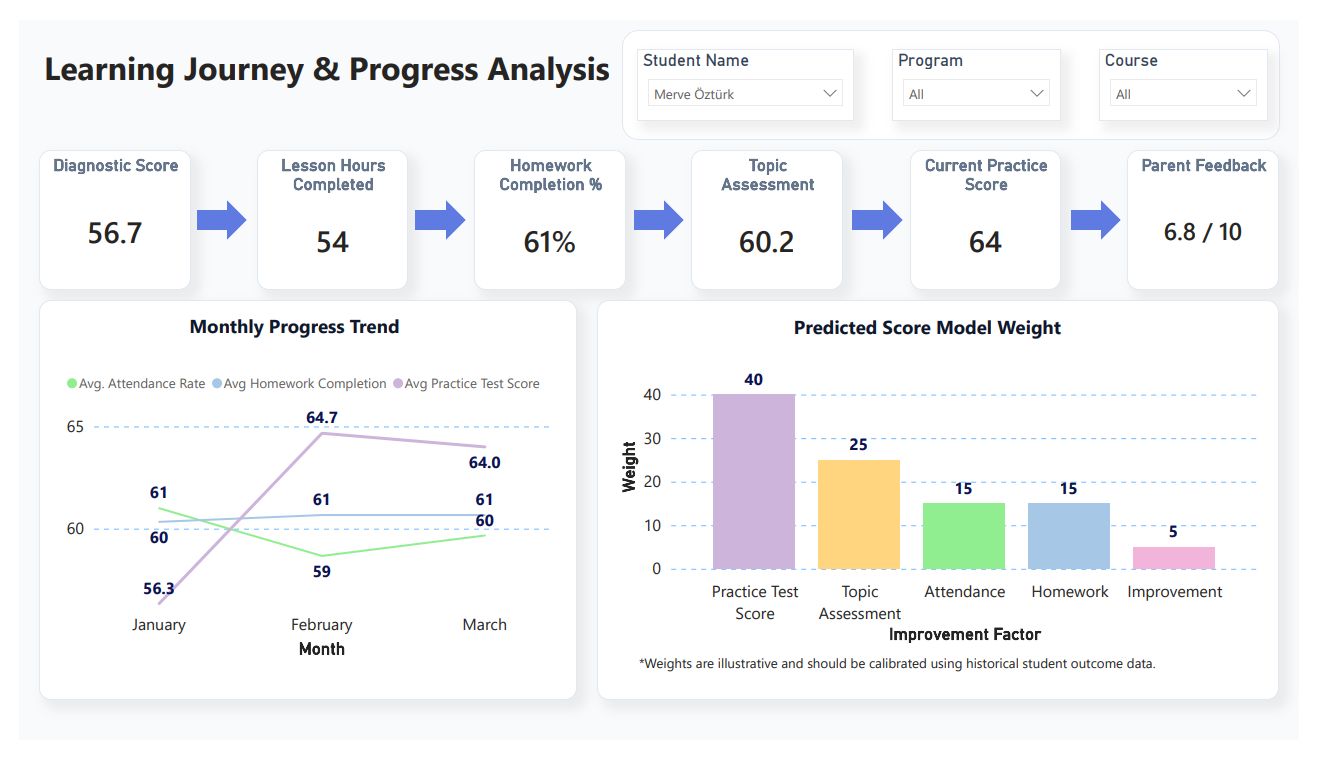

The dashboard page shown, as its layout file describes it:
{"tool":"powerbi","page":{"name":"Learning Journey & Progress Analysis","canvas":[1280,720],"ordinal":1},"visuals":[{"type":"shape","box":[602.5,10,657.5,110],"z":0,"group":"g1"},{"type":"textbox","box":[20,20,595,96.2],"z":0},{"type":"cardVisual","title":"Parent Feedback","fields":{"Data":["Dax.Parent Feedback Display"]},"box":[1108.3,130,151.7,140],"z":0,"group":"g2"},{"type":"group","id":"g1","title":"Group 1","box":[602.5,10,657.5,110],"z":1000},{"type":"slicer","title":"Student Name","fields":{"Values":["HubPrep_Data.Student_Name"]},"box":[617.6,29.5,216.6,71],"z":1000,"group":"g1"},{"type":"cardVisual","title":"Diagnostic Score","fields":{"Data":["Dax.Diagnostic Score Avg"]},"box":[20,130,151.7,140],"z":1000,"group":"g2"},{"type":"slicer","title":"Program","fields":{"Values":["HubPrep_Data.Program"]},"box":[872.1,29.5,169.1,71],"z":2000,"group":"g1"},{"type":"group","id":"g2","title":"Group 3","box":[20,130,1240,140],"z":2000},{"type":"cardVisual","title":"Current Practice Score","fields":{"Data":["Dax.Current Practice Skore"]},"box":[890.6,130,151.7,140],"z":2000,"group":"g2"},{"type":"slicer","title":"Course","fields":{"Values":["HubPrep_Data.Course"]},"box":[1079.1,29.5,168.9,71],"z":3000,"group":"g1"},{"type":"cardVisual","title":"Lesson Hours Completed","fields":{"Data":["Sum(HubPrep_Data.Lesson_Hours_Completed)"]},"box":[237.7,130,151.7,140],"z":3000,"group":"g2"},{"type":"group","id":"g3","title":"Group 3","box":[578.3,280,681.7,400],"z":3000},{"type":"cardVisual","title":"Homework Completion %","fields":{"Data":["Dax.Homework Display"]},"box":[455.3,130,151.7,140],"z":4000,"group":"g2"},{"type":"group","id":"g4","title":"Group 3","box":[20,280,538.3,400],"z":4000,"group":"g6"},{"type":"clusteredColumnChart","fields":{"Category":["Improvement Drivers.Improvement Factor"],"Y":["Sum(Improvement Drivers.Skor)"]},"box":[595,328.3,650,300],"z":4000},{"type":"cardVisual","title":"Topic Assessment","fields":{"Data":["Dax.Topic Mastery"]},"box":[672.2,130,151.7,140],"z":5000,"group":"g2"},{"type":"group","id":"g5","title":"Group 2","box":[20,280,538.3,400],"z":5000},{"type":"lineChart","fields":{"Category":["HubPrep_Data.Session_Date.Variation.Date Hierarchy.Month"],"Y":["Avg(HubPrep_Data.Attendance_Rate_%)","Avg(HubPrep_Data.Homework_Completion_%)","Avg(HubPrep_Data.Practice_Test_Score)"]},"box":[42.1,343.3,494.2,300],"z":5501,"group":"g6"},{"type":"shape","box":[177.5,180,50.6,40],"z":6000,"group":"g2"},{"type":"textbox","box":[615.5,628.6,650,33.3],"z":6001},{"type":"shape","box":[396.1,180,50.6,40],"z":7000,"group":"g2"},{"type":"shape","box":[833.3,180,50.6,40],"z":8000,"group":"g2"},{"type":"shape","box":[614.7,180,50.6,40],"z":9000,"group":"g2"},{"type":"shape","box":[1051.9,180,50.6,40],"z":10000,"group":"g2"},{"type":"shape","box":[20,280,538.3,400],"z":12000,"group":"g4"},{"type":"shape","box":[578.3,280,681.7,400],"z":12000,"group":"g3"},{"type":"textbox","box":[138.3,288,275,80],"z":14000,"group":"g6"},{"type":"textbox","box":[732.7,288.9,352.6,78.6],"z":14000,"group":"g3"},{"type":"group","id":"g6","title":"Group 4","box":[20,280,538.3,400],"z":14002,"group":"g5"}]}

Visuals, with their boxes in screenshot pixels (x1, y1, x2, y2), scaled from the page's 1280x720 canvas onto the 1320x758 screenshot:
shape: locate(621, 11, 1299, 126)
textbox: locate(21, 21, 634, 122)
"Parent Feedback" cardVisual: locate(1143, 137, 1299, 284)
"Group 1" group: locate(621, 11, 1299, 126)
"Student Name" slicer: locate(637, 31, 860, 106)
"Diagnostic Score" cardVisual: locate(21, 137, 177, 284)
"Program" slicer: locate(899, 31, 1074, 106)
"Group 3" group: locate(21, 137, 1299, 284)
"Current Practice Score" cardVisual: locate(918, 137, 1075, 284)
"Course" slicer: locate(1113, 31, 1287, 106)
"Lesson Hours Completed" cardVisual: locate(245, 137, 402, 284)
"Group 3" group: locate(596, 295, 1299, 716)
"Homework Completion %" cardVisual: locate(470, 137, 626, 284)
"Group 3" group: locate(21, 295, 576, 716)
clusteredColumnChart - Improvement Drivers.Improvement Factor x Sum(Improvement Drivers.Skor): locate(614, 346, 1284, 661)
"Topic Assessment" cardVisual: locate(693, 137, 850, 284)
"Group 2" group: locate(21, 295, 576, 716)
lineChart - HubPrep_Data.Session_Date.Variation.Date Hierarchy.Month x Avg(HubPrep_Data.Attendance_Rate_%): locate(43, 361, 553, 677)
shape: locate(183, 190, 235, 232)
textbox: locate(635, 662, 1305, 697)
shape: locate(408, 190, 461, 232)
shape: locate(859, 190, 912, 232)
shape: locate(634, 190, 686, 232)
shape: locate(1085, 190, 1137, 232)
shape: locate(21, 295, 576, 716)
shape: locate(596, 295, 1299, 716)
textbox: locate(143, 303, 426, 387)
textbox: locate(756, 304, 1119, 387)
"Group 4" group: locate(21, 295, 576, 716)
